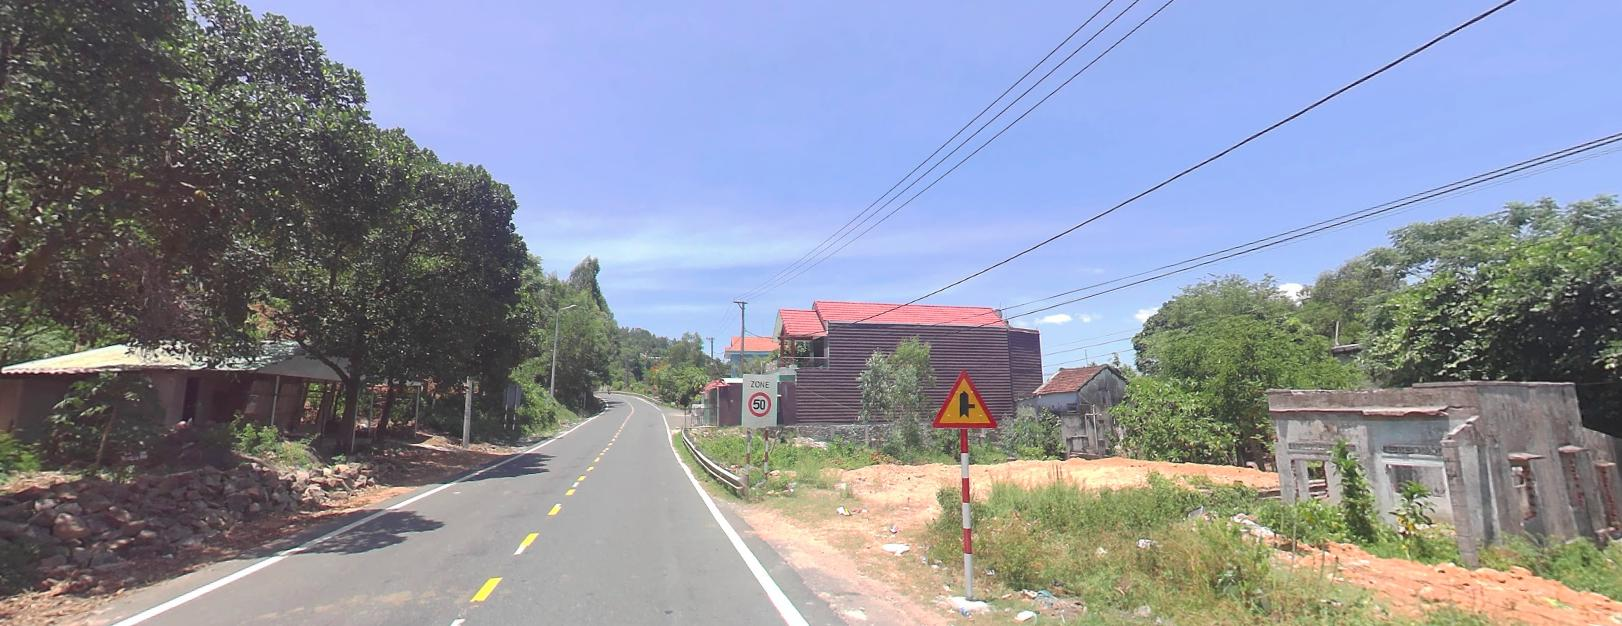Gioi han toc do: (745, 389, 773, 417)
Nguy hiem: (926, 363, 1003, 433)
